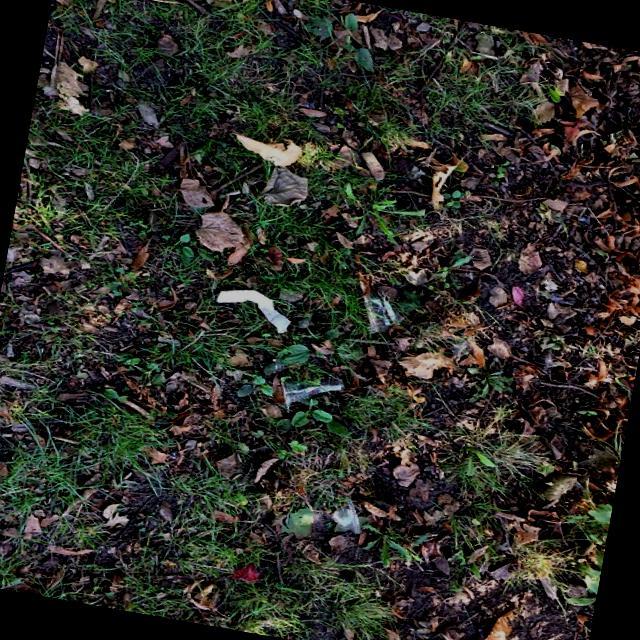Recycle: (210, 283, 298, 338)
